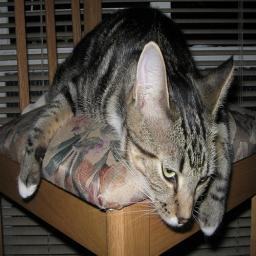catnose: (178, 214, 191, 224)
